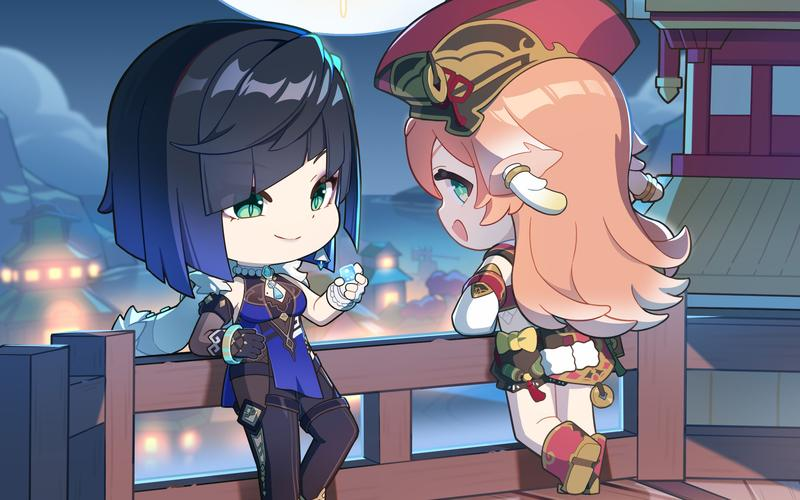夜兰: (85, 19, 371, 500)
